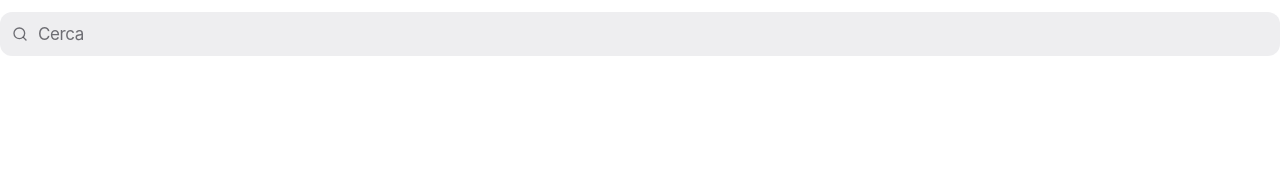
Pulsanti e campi › SearchField: role search, cancella con il pulsante e con Esc
Type "goblin" into the search field at (654, 34), box [36,12,1272,56]
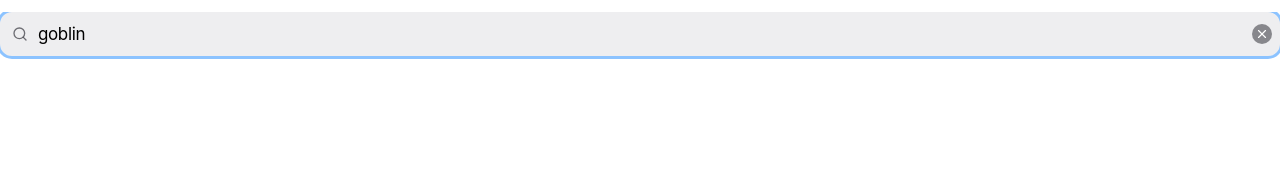
Click the button named "Cancella testo" at (1262, 34), box [1252,24,1272,44]
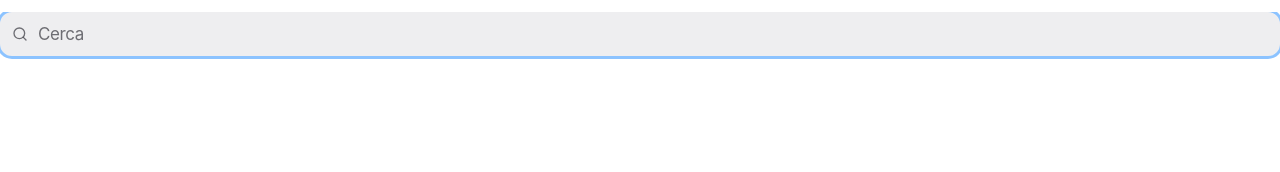
Check: the search field is empty
Type "orco" into the search field at (654, 34), box [36,12,1272,56]
Then press Escape
Check: the search field is empty, box [36,12,1272,56]
